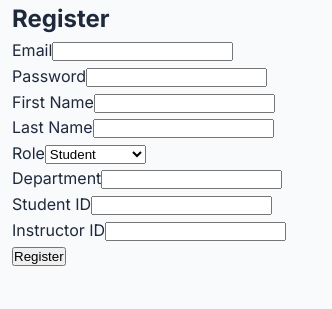
Test: RegisterForm › shows error on failure
The image size is (332, 309).
Step 1. Type "exists@example.com" into the field labelled "Email" → point(143, 52), box [52, 42, 233, 61]
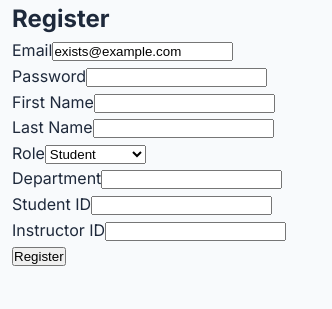
Step 2. Type "Password1!" into the password field labelled "Password" → point(176, 78), box [86, 68, 267, 87]
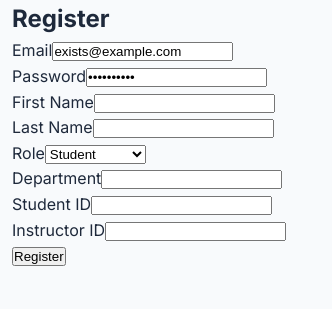
Step 3. Type "Ex" into the field labelled "First Name" → point(184, 103), box [94, 94, 275, 113]
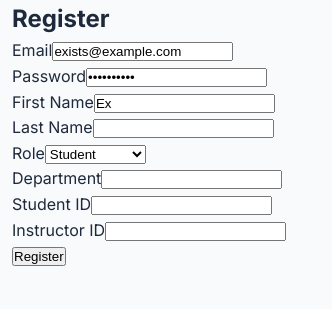
Step 4. Type "Ist" into the field labelled "Last Name" → point(183, 129), box [93, 119, 274, 138]
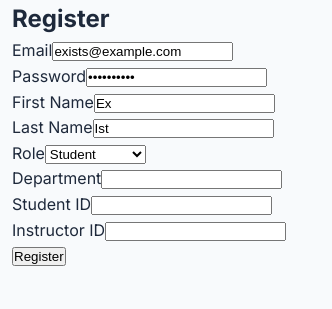
Step 5. Click the button "Register" → point(39, 257), box [12, 247, 66, 266]
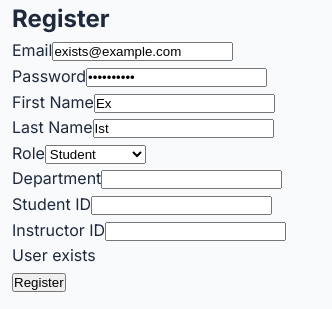
expect the message reads "User exists": met, box [12, 245, 96, 265]
